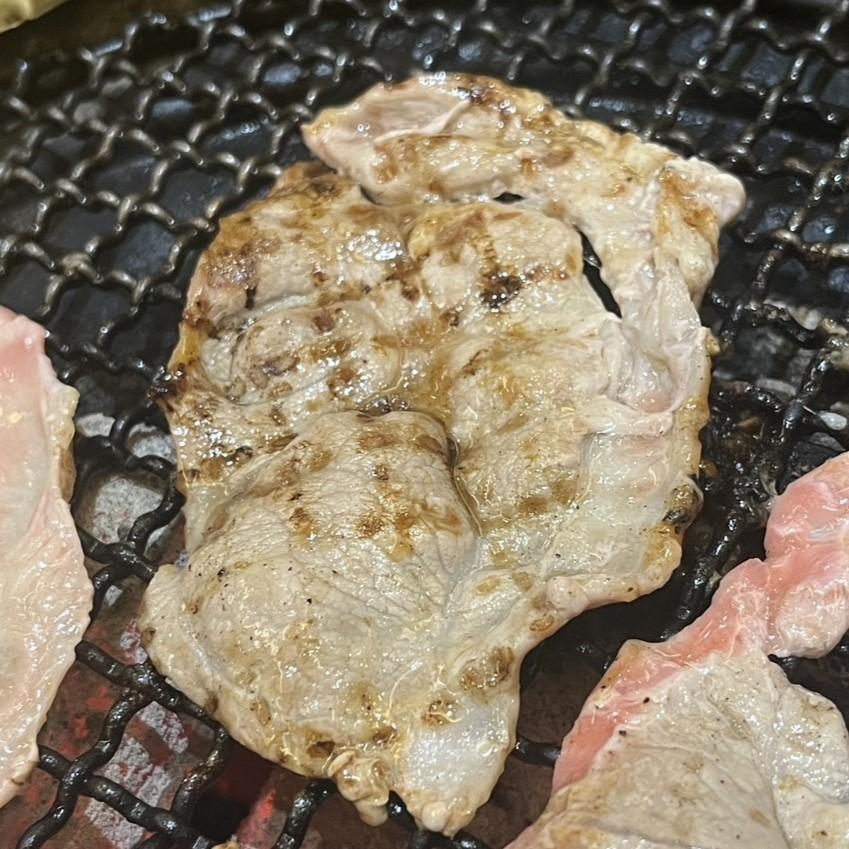Overcooked: (144, 76, 747, 825)
Undercooked: (515, 452, 848, 848), (0, 306, 92, 813)
